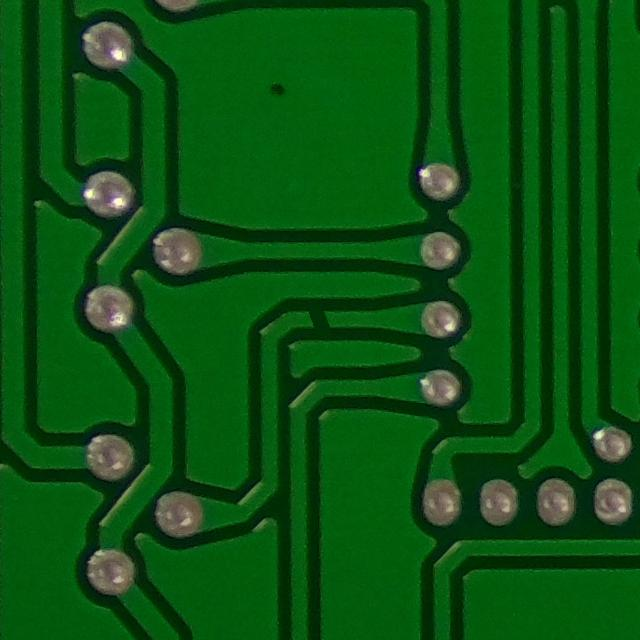open_circuit: (299, 301, 341, 340)
